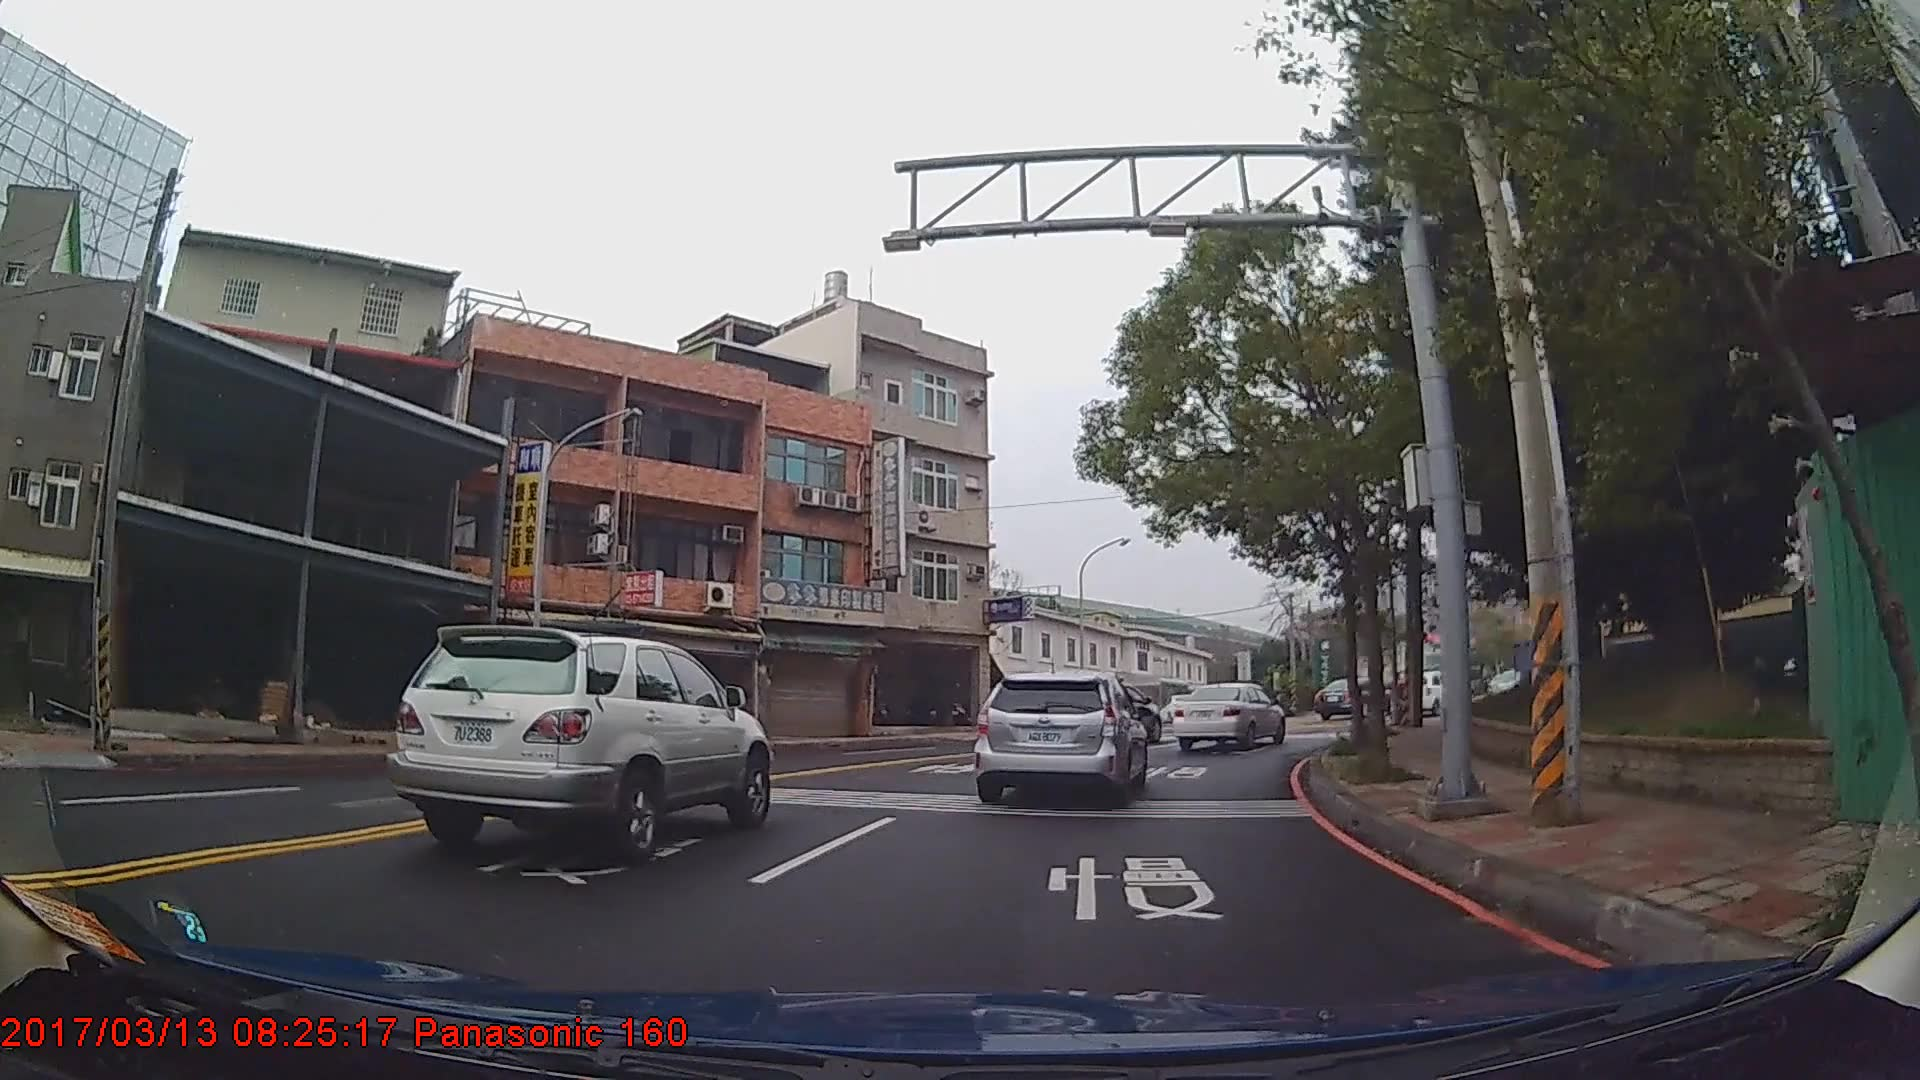vehicle: (386, 620, 773, 862), (968, 669, 1147, 808), (1170, 682, 1287, 752), (1311, 676, 1378, 719)
